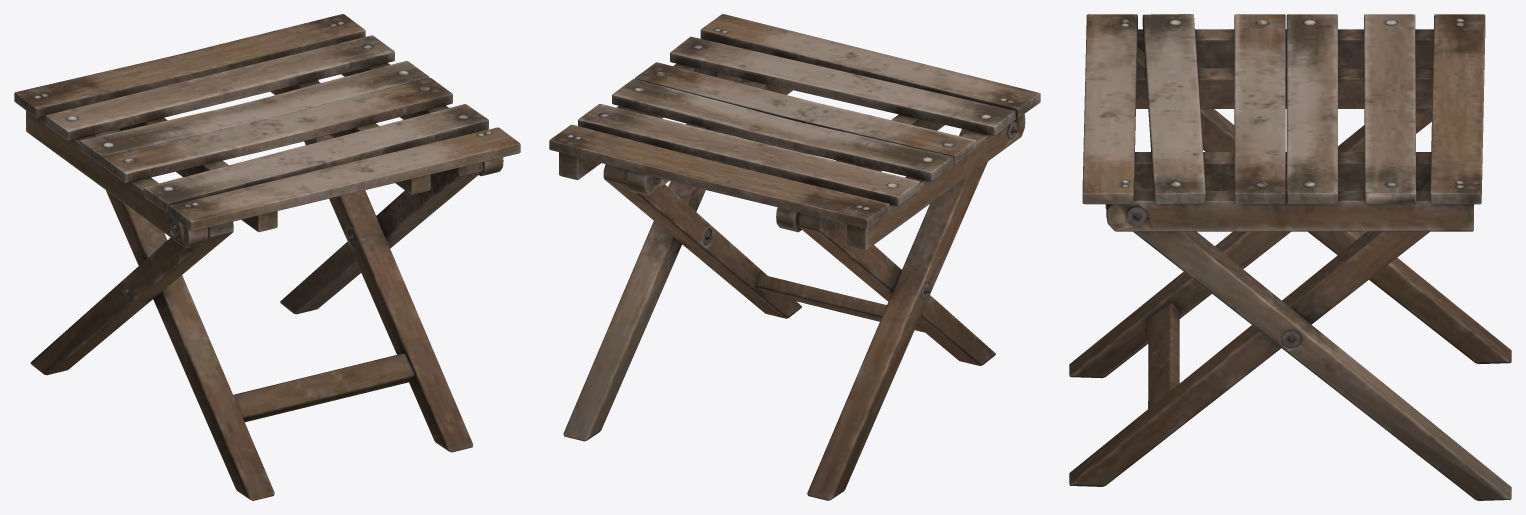
File: folding_wooden_stool.glb
3 views of the same model, side by side, from view 1: azimuth 30°, elevation 25°; view 2: azimuth 150°, elevation 25°; view 3: azimuth 270°, elevation 25° (orthographic). The views are drawn at different scales.
Visible parts, largest first — view 1: folding_wooden_stool; view 2: folding_wooden_stool; view 3: folding_wooden_stool.
Boxes of the visible parts, x1,y1,x2,y2 form: folding_wooden_stool: (14, 14, 520, 500); folding_wooden_stool: (549, 14, 1040, 500); folding_wooden_stool: (1069, 14, 1511, 500).
Size of the model in its own units: 0.5278 by 0.442 by 0.5471.
Materials: 1 (1 with a texture image).
